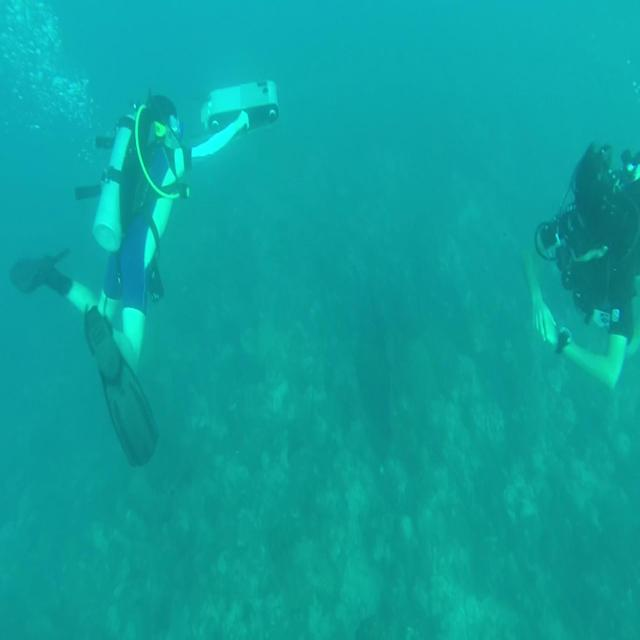human: (10, 77, 279, 468), (521, 139, 639, 390)
